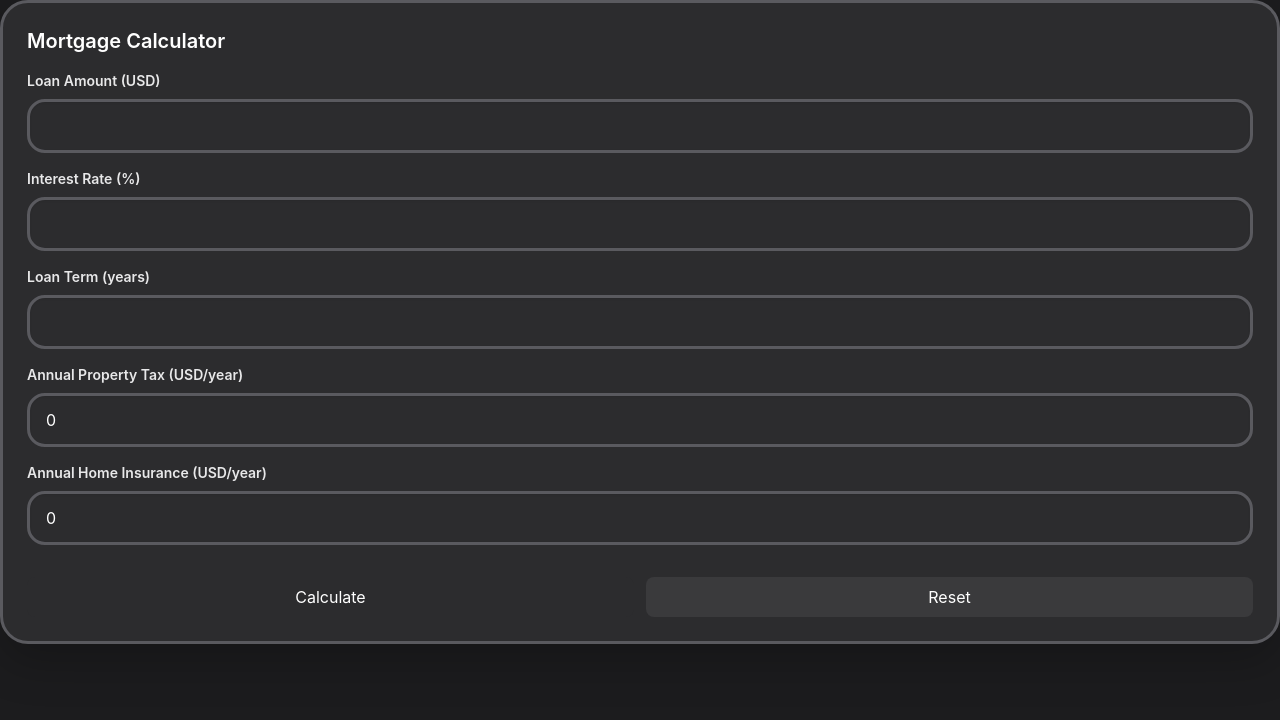
Scenario: MortgageCalculator › shows validation error when loan amount is missing
This screenshot has width=1280, height=720.
Type "4.5" into the field labelled "Interest Rate (%)" at (640, 224), box x1=27 y1=197 x2=1253 y2=251
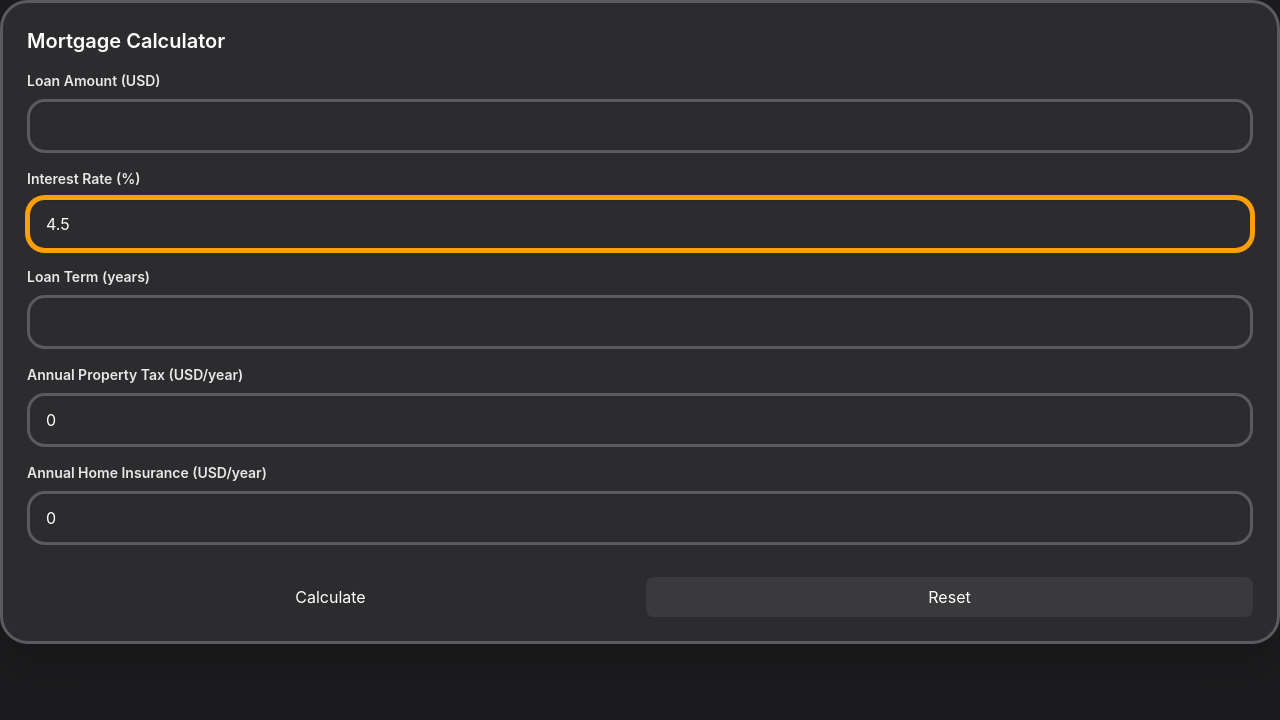
Type "30" into the field labelled "Loan Term (years)" at (640, 322), box x1=27 y1=295 x2=1253 y2=349
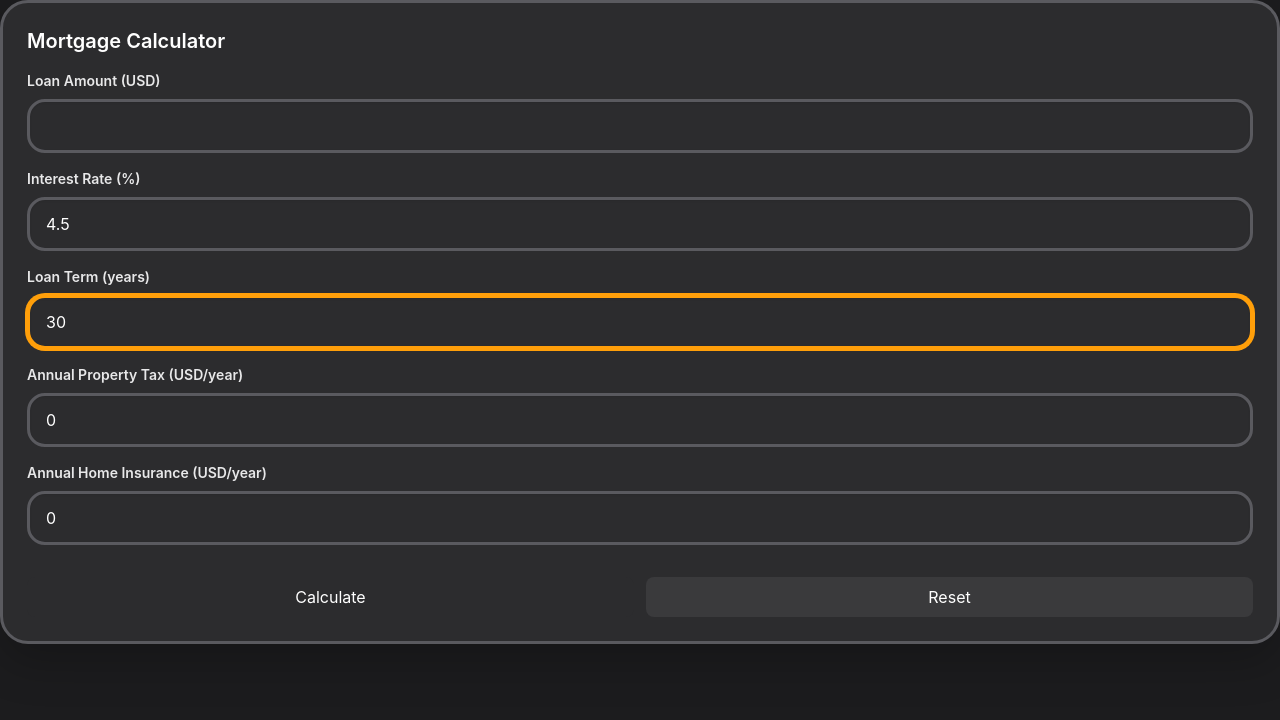
Click the button "Calculate" at (330, 597), box x1=27 y1=577 x2=634 y2=617
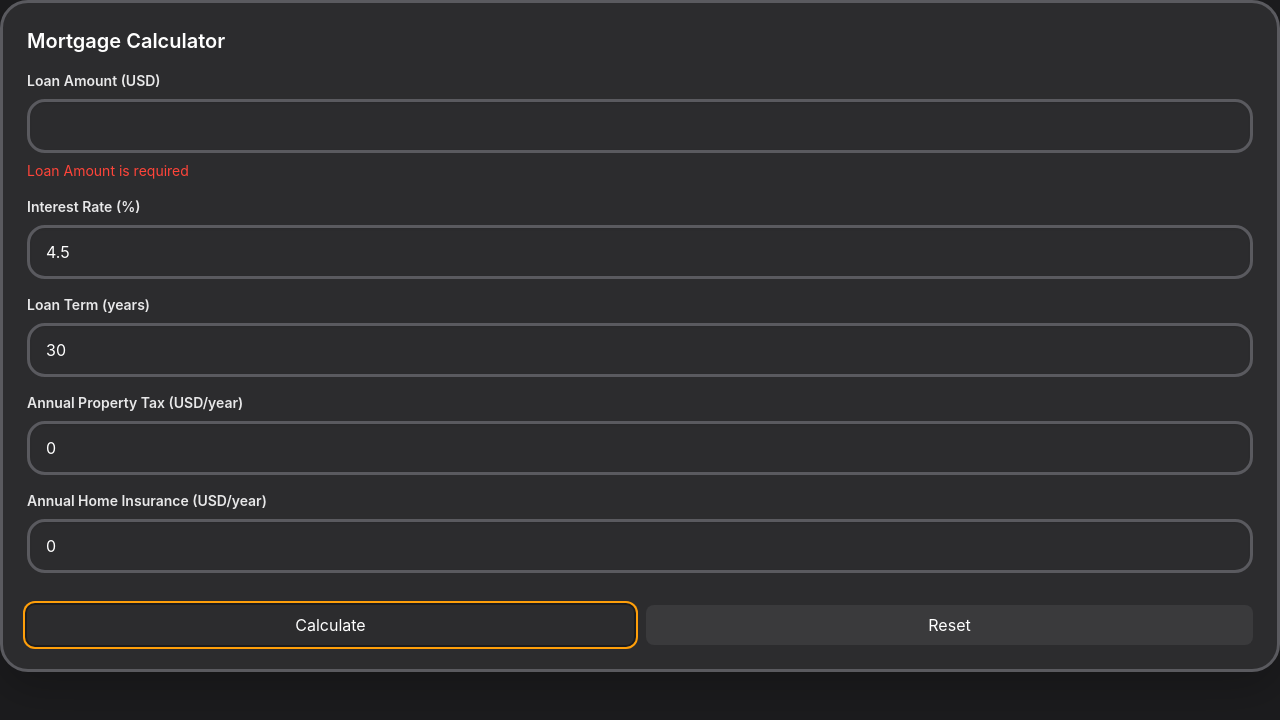
Result: the text "Loan Amount is required" is shown at x1=27 y1=162 x2=189 y2=179
